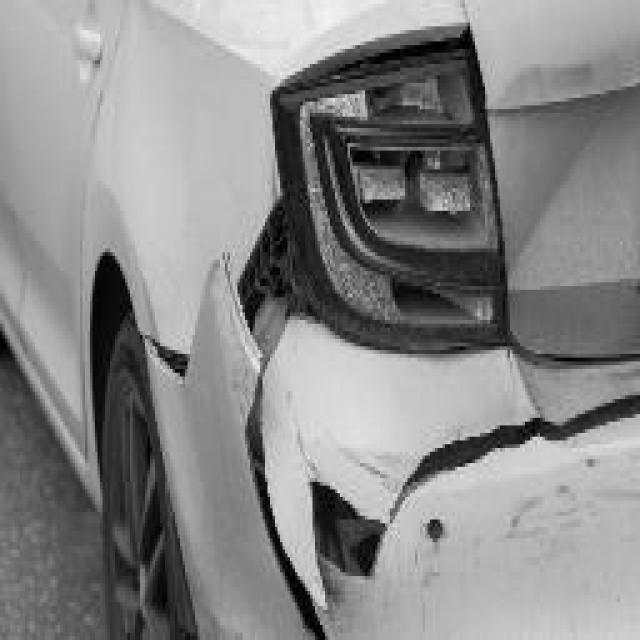Bumper: (260, 335, 638, 640)
Fender: (112, 94, 298, 358)
